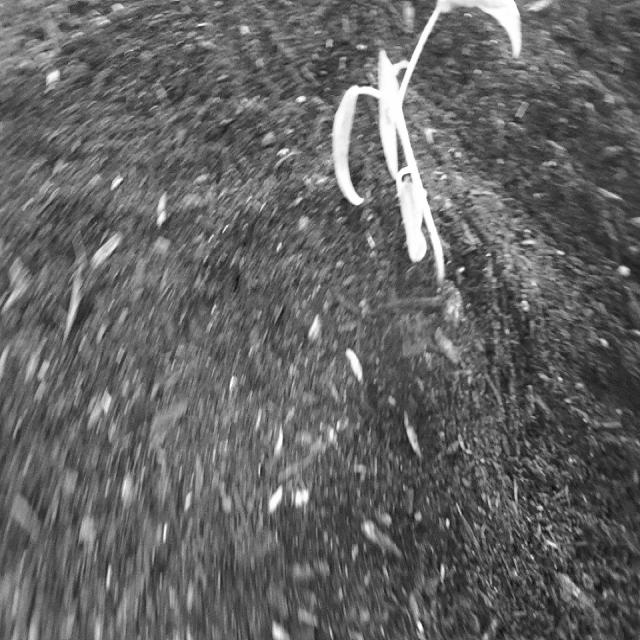Healthy: (326, 0, 529, 304)
